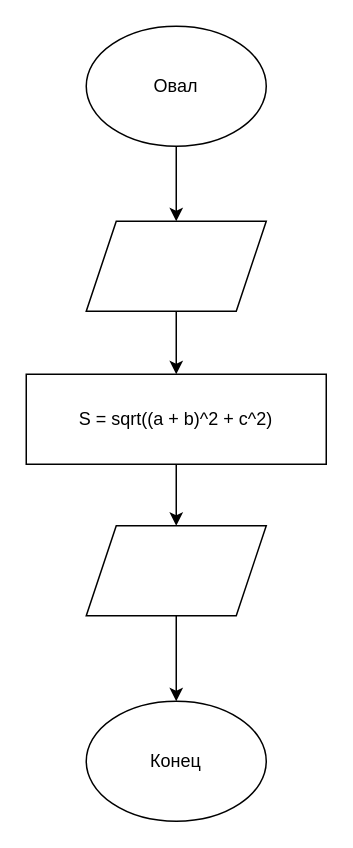
This 353x848 diagram has some shape labels left out. Each missing label, with the centre of its shape:
"Ввести a, b, c" goes at (175,265).
"Вывести S" goes at (175,570).
